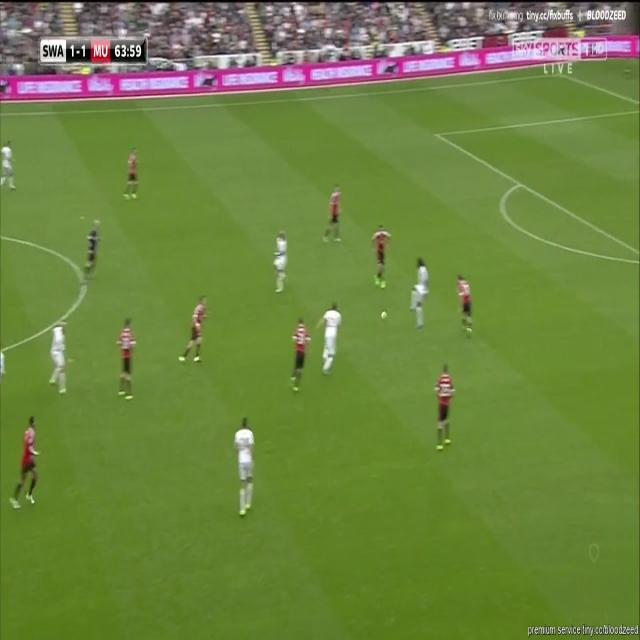Ball: (380, 308, 388, 323)
Player: (8, 412, 41, 513), (231, 415, 258, 522), (178, 292, 209, 369), (316, 298, 344, 379), (115, 314, 140, 403), (406, 251, 432, 333), (434, 360, 456, 453), (289, 312, 312, 399), (369, 222, 394, 293), (48, 318, 70, 398), (321, 181, 345, 246), (271, 226, 291, 298), (457, 270, 476, 343), (122, 143, 142, 204), (0, 137, 19, 196)
Referee: (81, 216, 103, 289)
